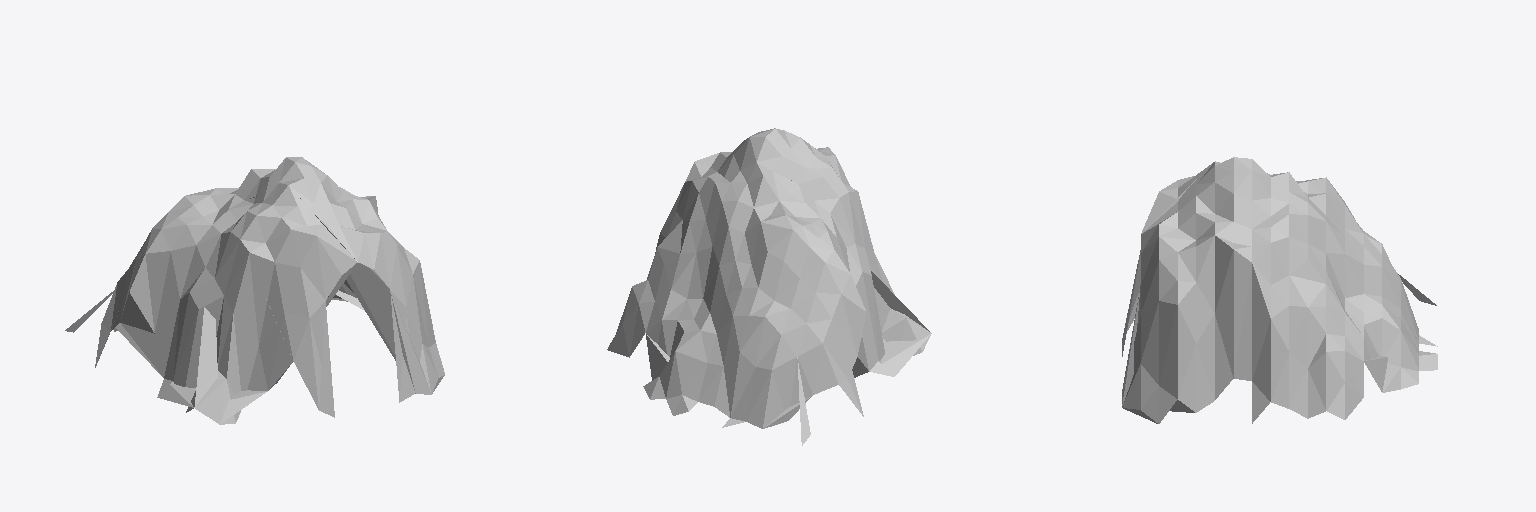
File: tree_20.obj
3 views of the same model, side by side, from view 1: azimuth 30°, elevation 25°; view 2: azimuth 150°, elevation 25°; view 3: azimuth 270°, elevation 25° (orthographic).
Visible parts, largest first — view 1: tree_20.001; view 2: tree_20.001; view 3: tree_20.001.
Part boxes in pixels (x1,y1,x2,y2): tree_20.001: (65,157,444,424); tree_20.001: (607,128,931,445); tree_20.001: (1122,157,1437,423).
Size of the model in its own units: 16 by 12.66 by 17.